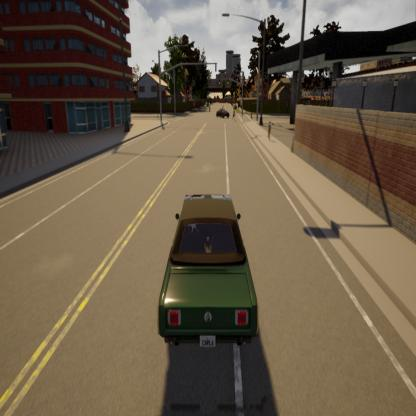Cars: (151, 176, 274, 370), (214, 104, 232, 130)
Pedestrian: (265, 117, 277, 146), (231, 101, 238, 129)
